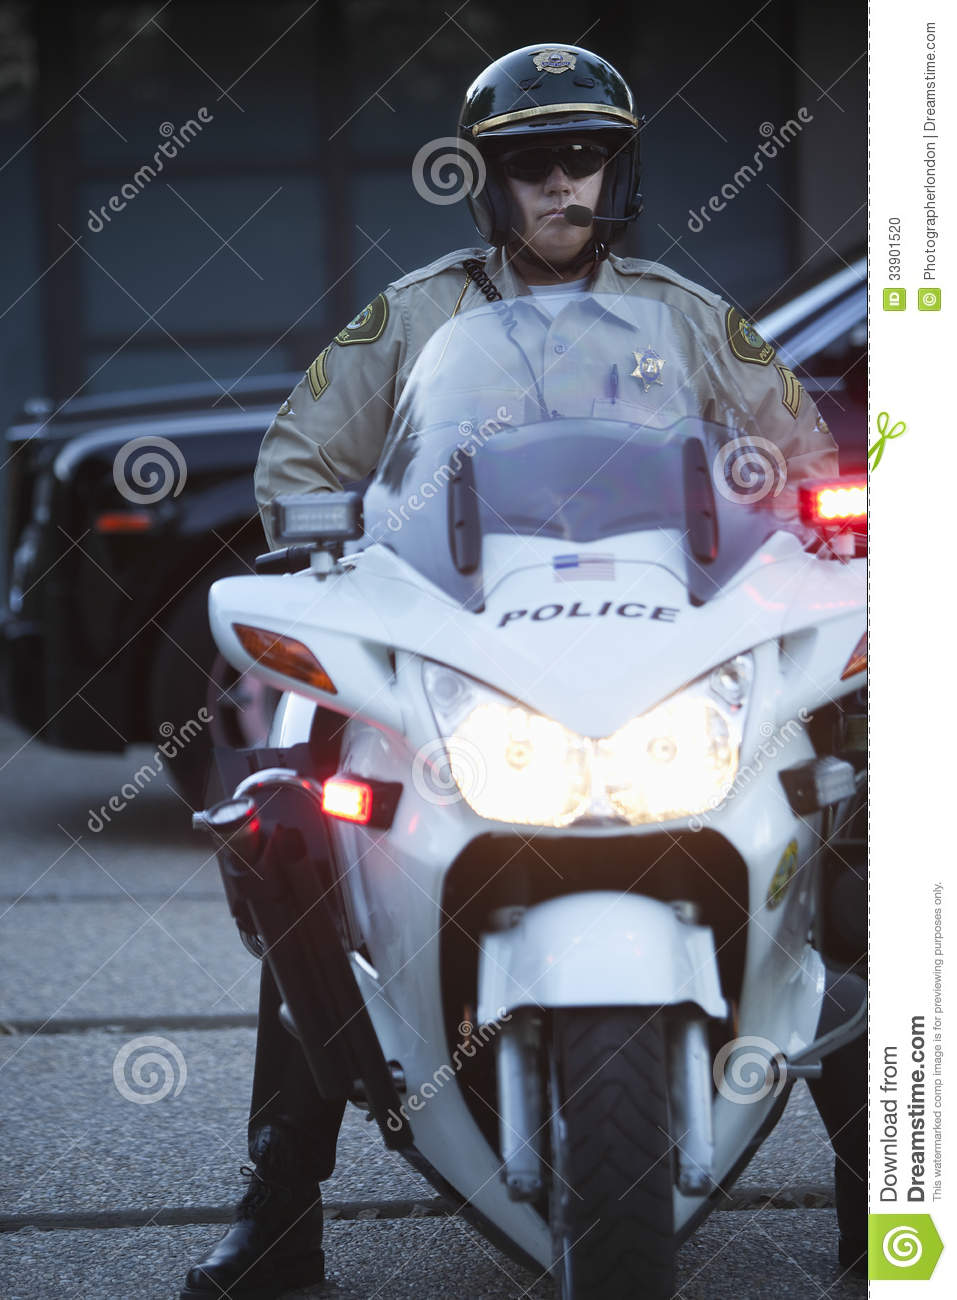helmet: (434, 43, 658, 245)
